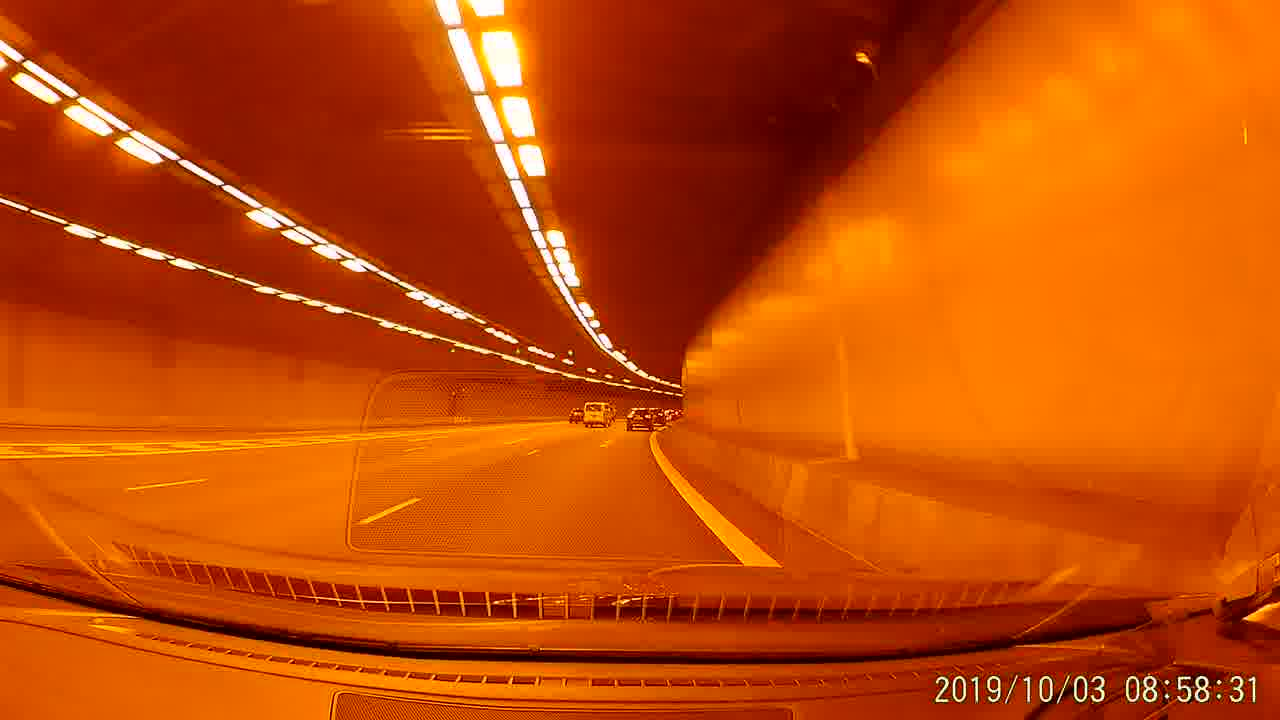car: (625, 406, 655, 435), (646, 408, 668, 427), (568, 406, 587, 425)
